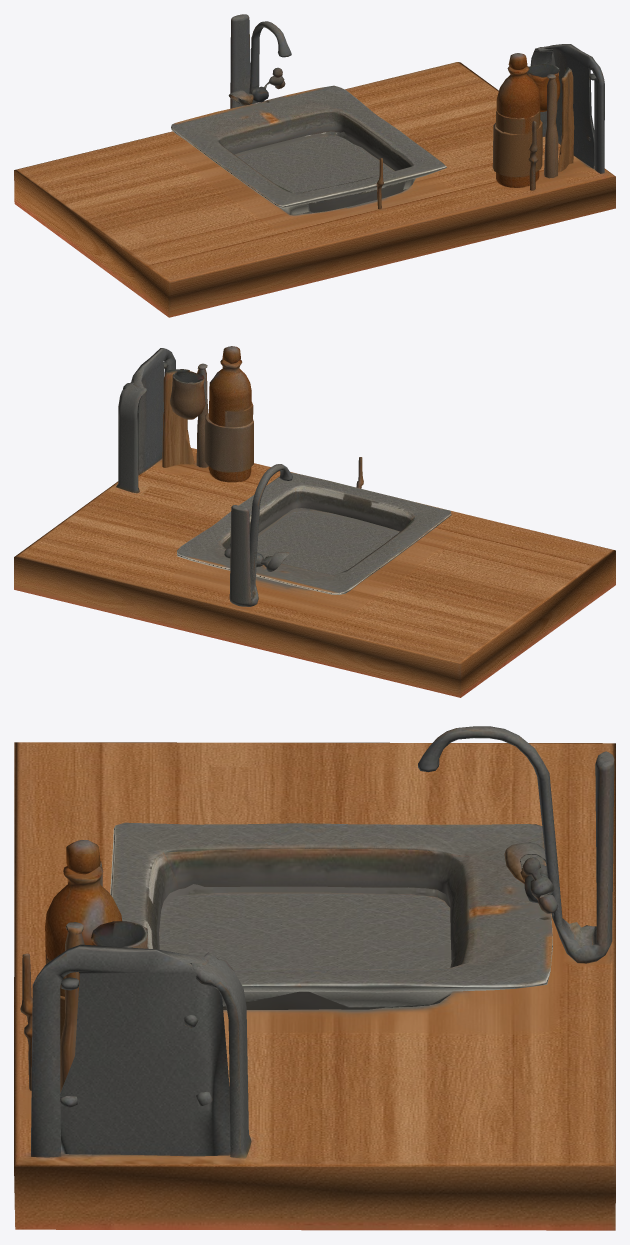
Rendered from xmas_kitchen.glb.
3 views of the same model, one above another, from view 1: azimuth 30°, elevation 25°; view 2: azimuth 150°, elevation 25°; view 3: azimuth 270°, elevation 25° (orthographic). The views are drawn at different scales.
Bounding box in the file's own units: 1 × 0.3447 × 0.6031.
Materials: 1 (1 with a texture image).
